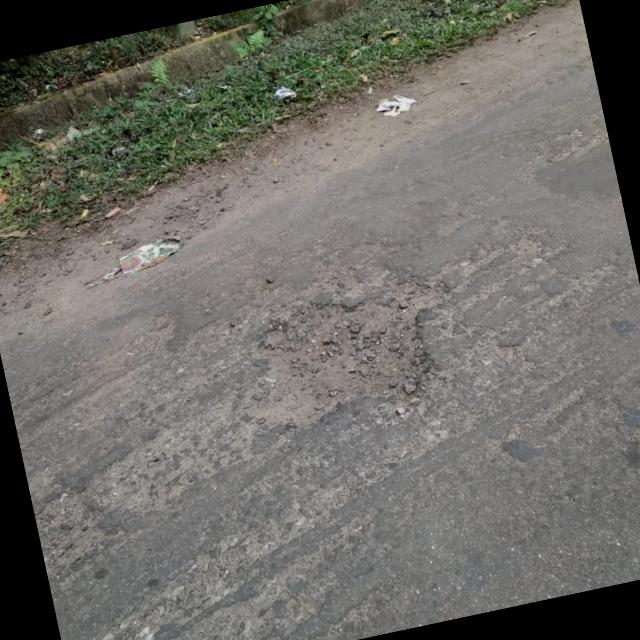Lubang: (247, 275, 443, 424)
